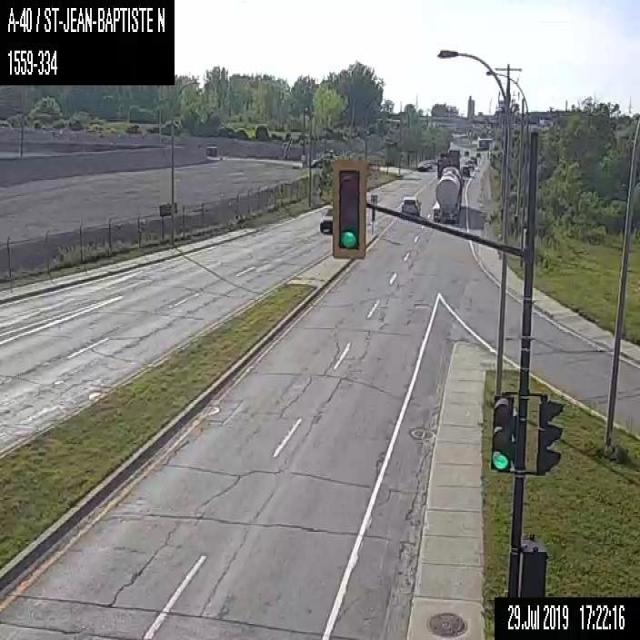vehicle: (430, 150, 461, 222), (400, 194, 419, 218), (318, 207, 332, 233), (417, 159, 428, 171), (460, 164, 470, 176), (464, 159, 474, 169), (469, 155, 476, 164)
